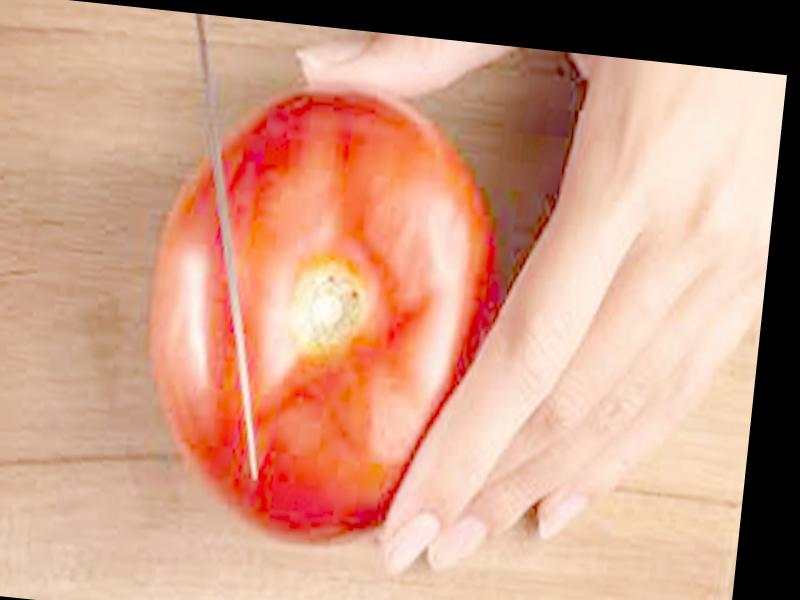Tomato: (136, 76, 522, 559)
